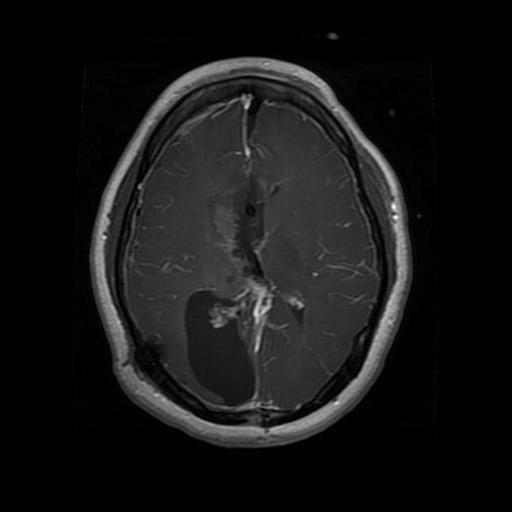Tumour-Glioma: (179, 280, 258, 398)
